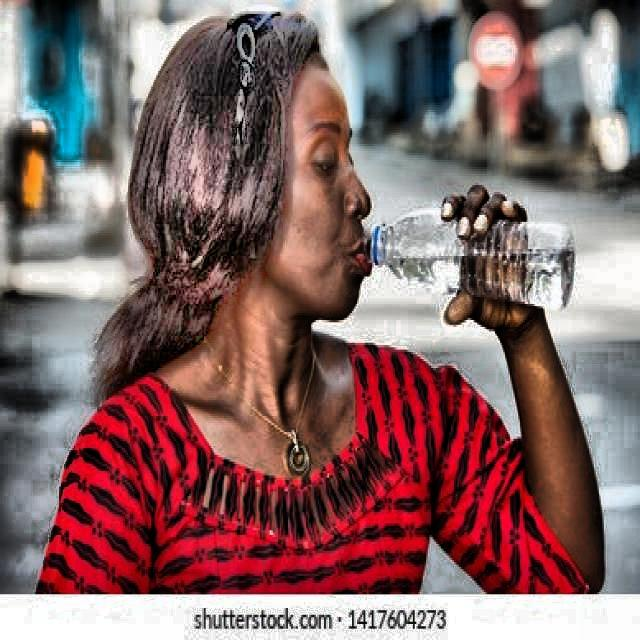plastic bottle: (371, 209, 576, 308)
